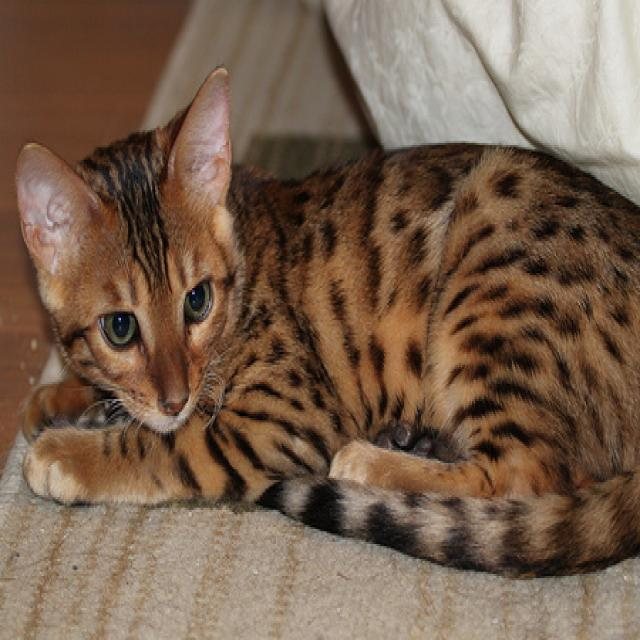Bengal: (3, 51, 640, 580)
